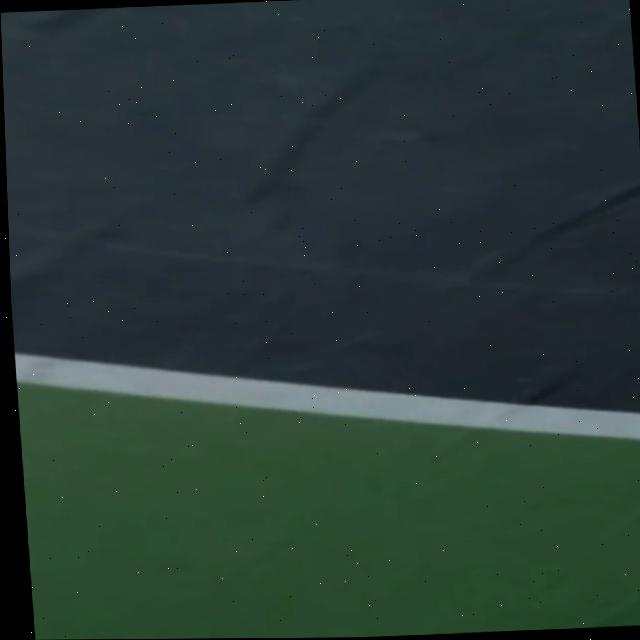right: (14, 350, 640, 437)
